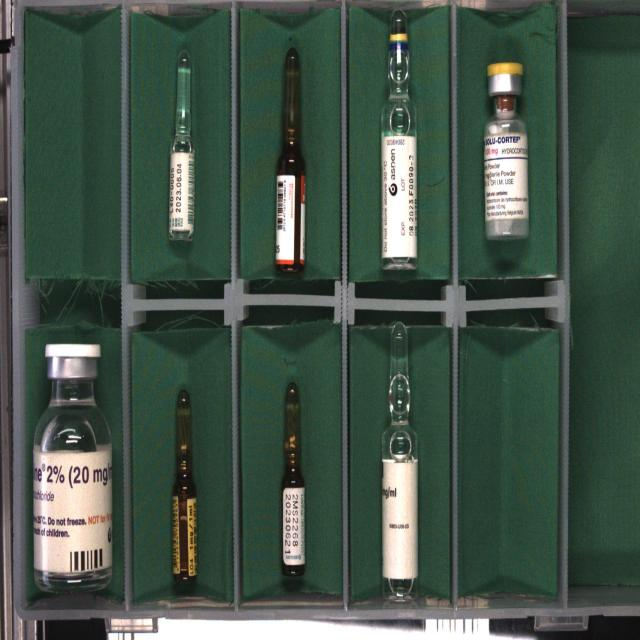Vials: (32, 343, 113, 593), (484, 62, 529, 239)
